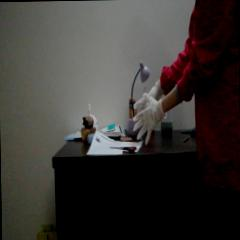gloved: (132, 103, 164, 145), (133, 80, 162, 109)
